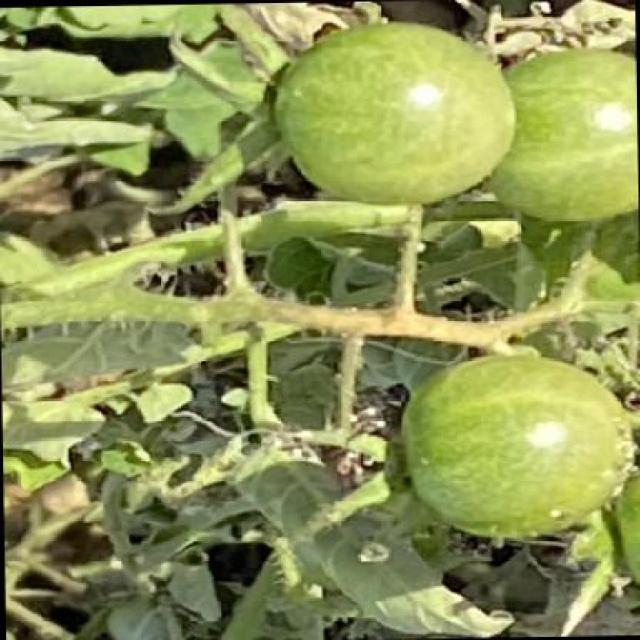unripe tomato: (266, 18, 520, 208), (396, 355, 621, 540), (485, 46, 637, 226)
